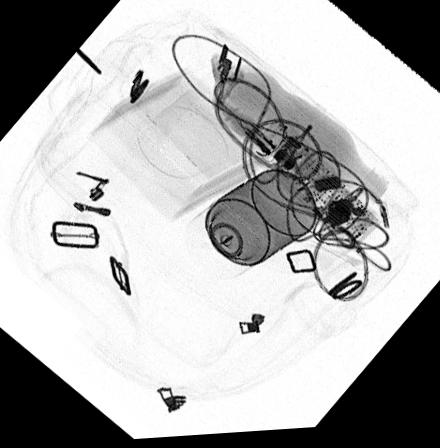Sprayer: (184, 170, 317, 280)
